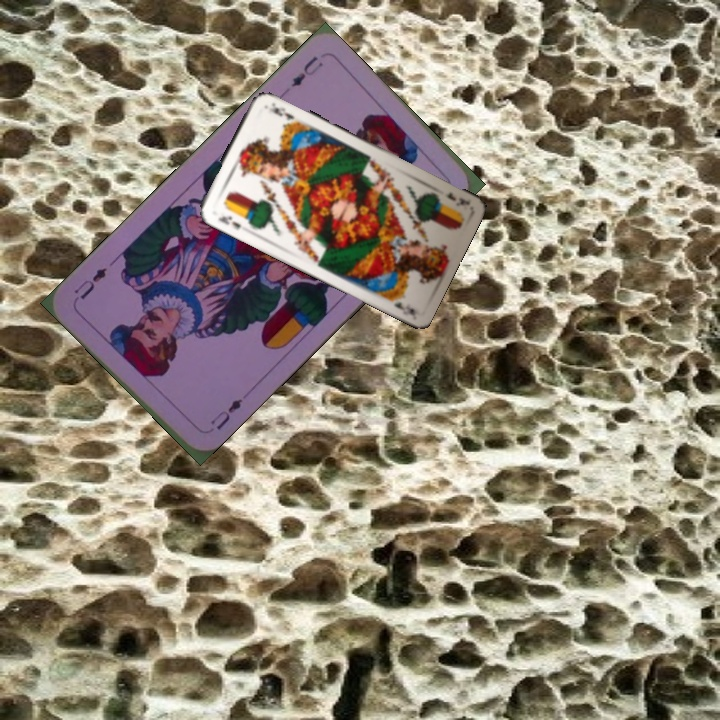EK: (440, 189, 472, 209), (214, 212, 243, 232)
EU: (206, 394, 245, 433), (287, 52, 326, 90)
